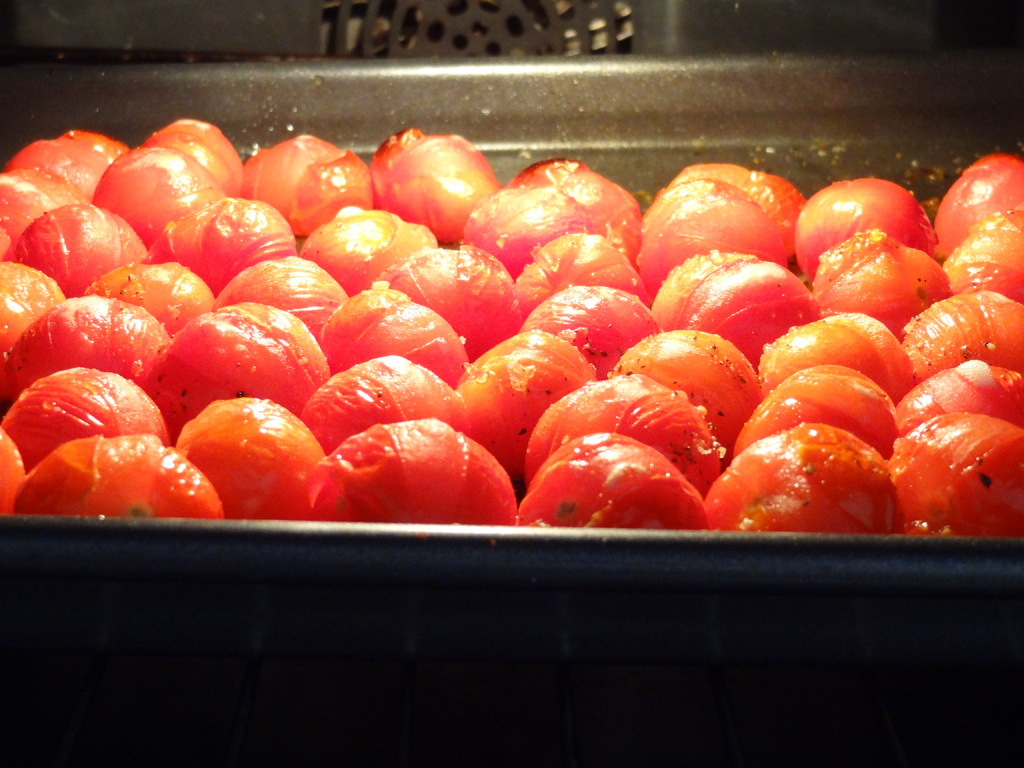Tomato: (0, 119, 1023, 542), (162, 395, 317, 520)
